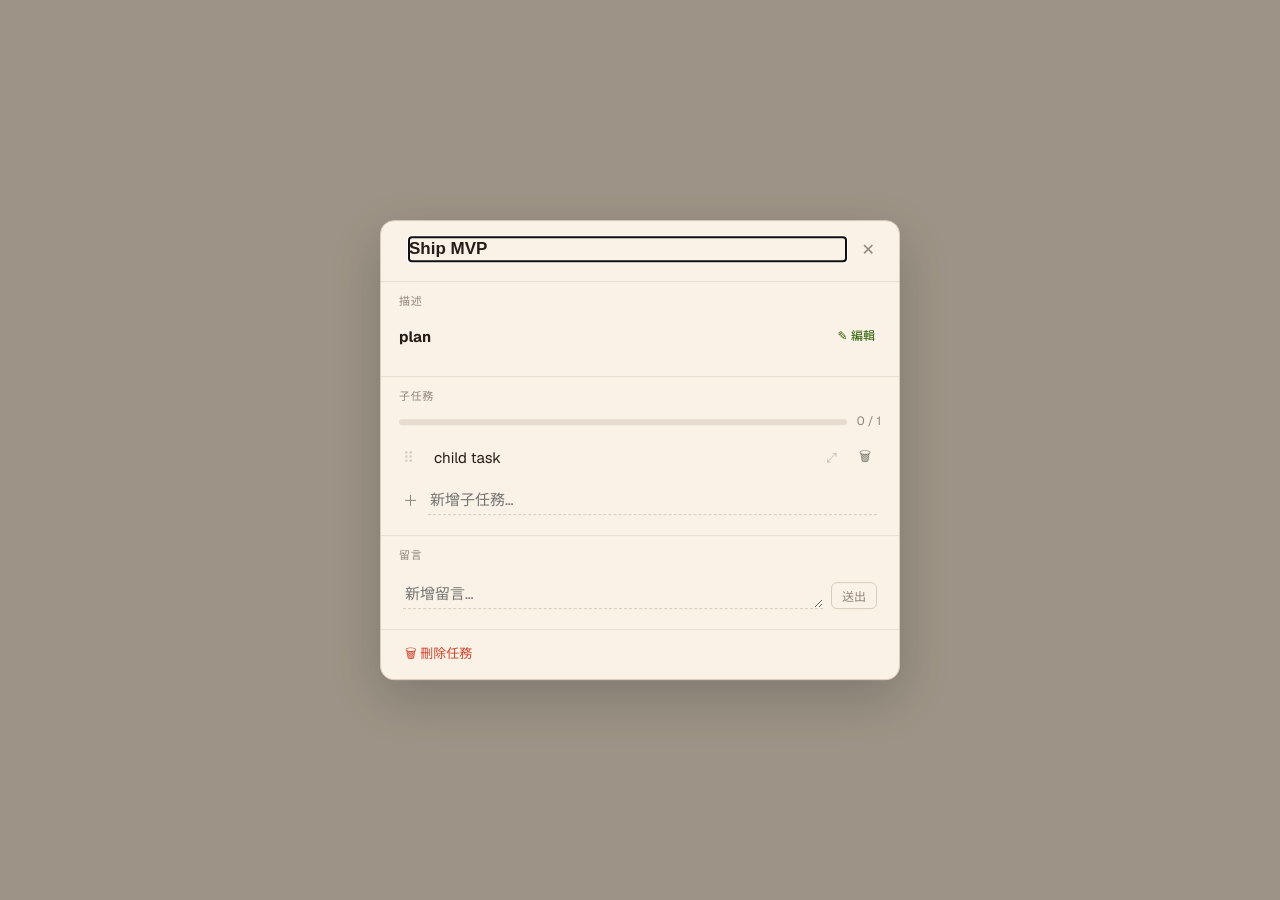
Test case: TaskDetailModal › navigates into a subtask (fetched, not in the tasks store) and back
Expected: the field showing "Ship MVP" is shown, [409,237,846,261]
Click the button named "開啟子任務詳情" at (832, 458), box [820,449,843,467]
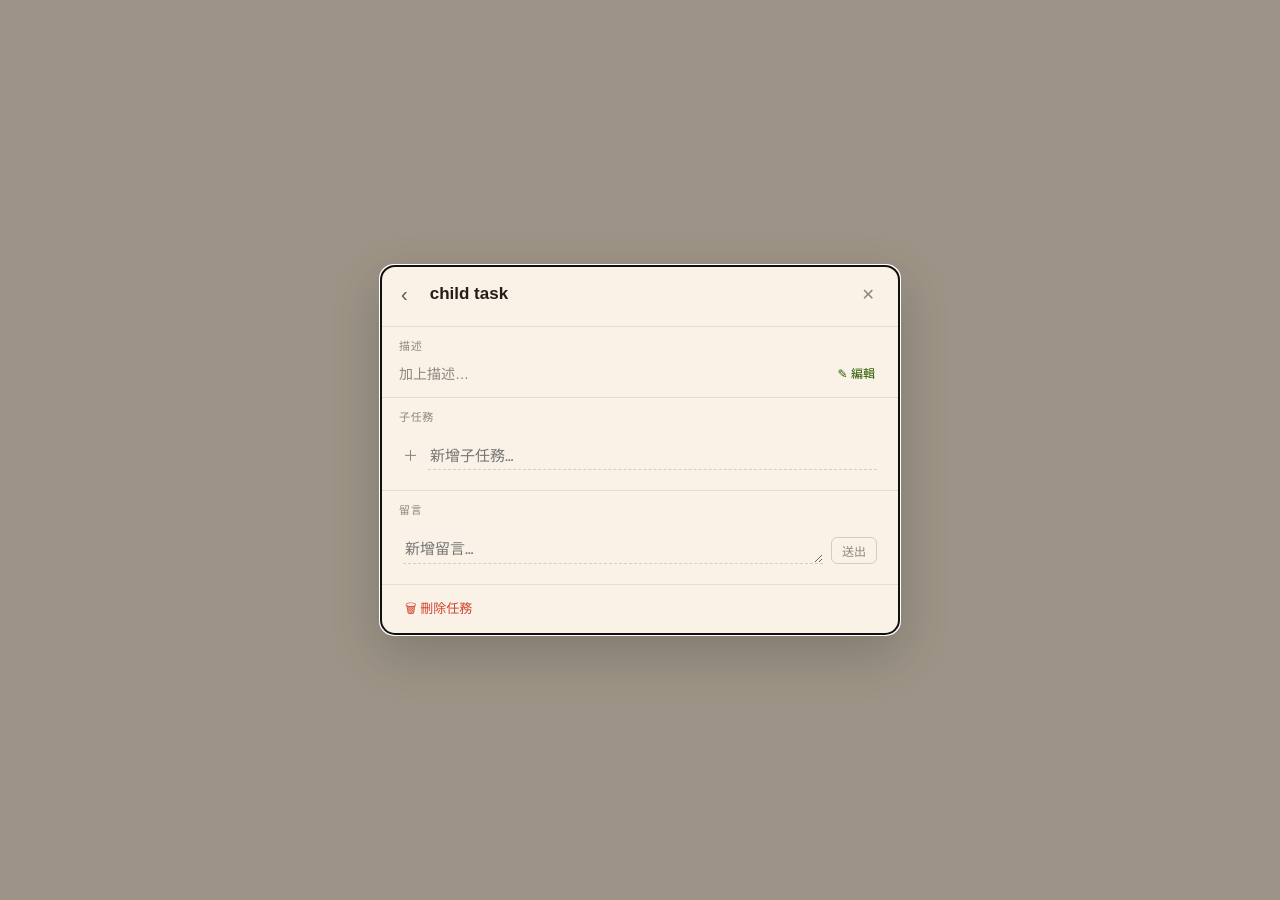
Result: the field showing "child task" is shown at [430,282,846,306]
Click the button named "返回上層任務" at (404, 294), box [399,284,410,304]
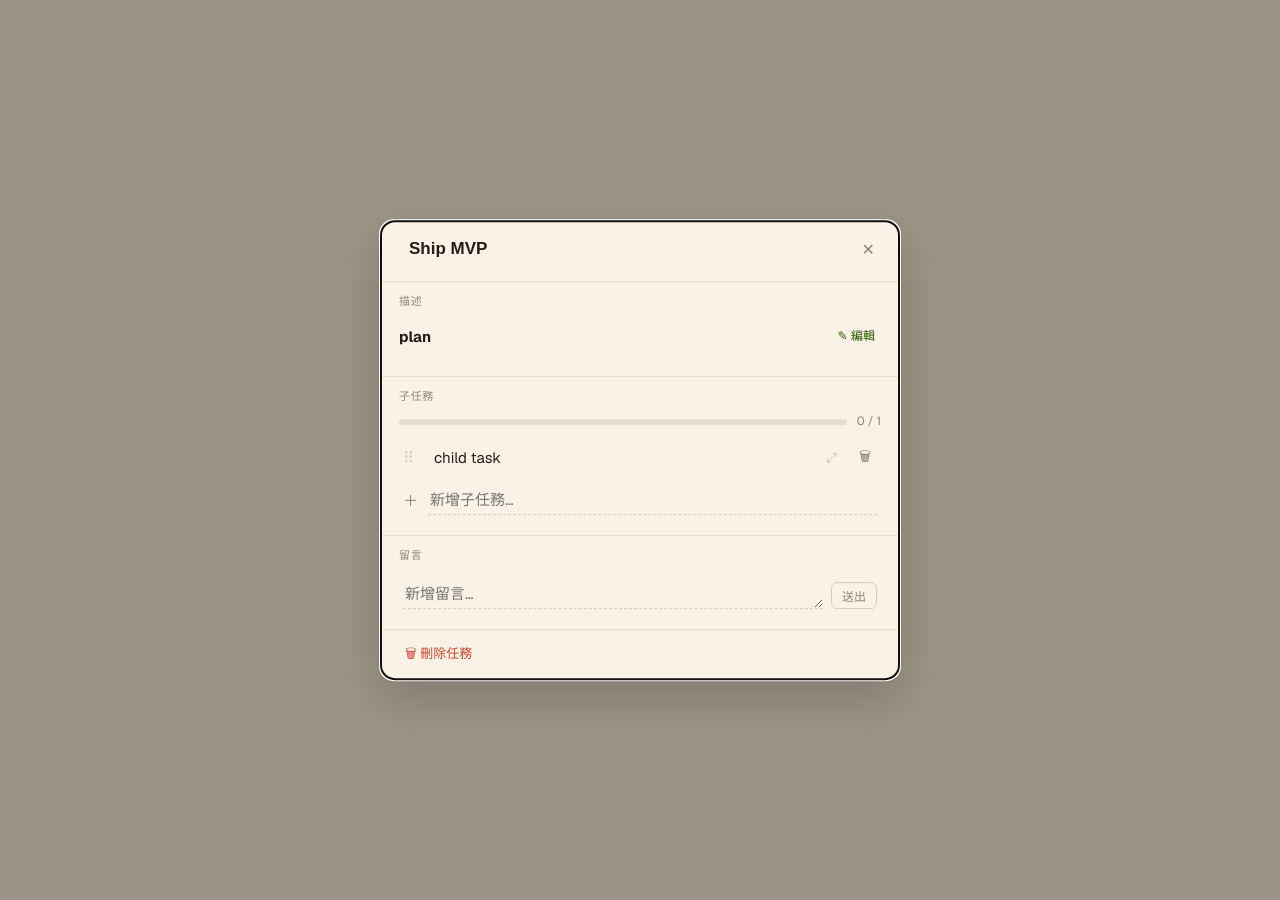
Result: the field showing "Ship MVP" is shown at [409,237,846,261]
